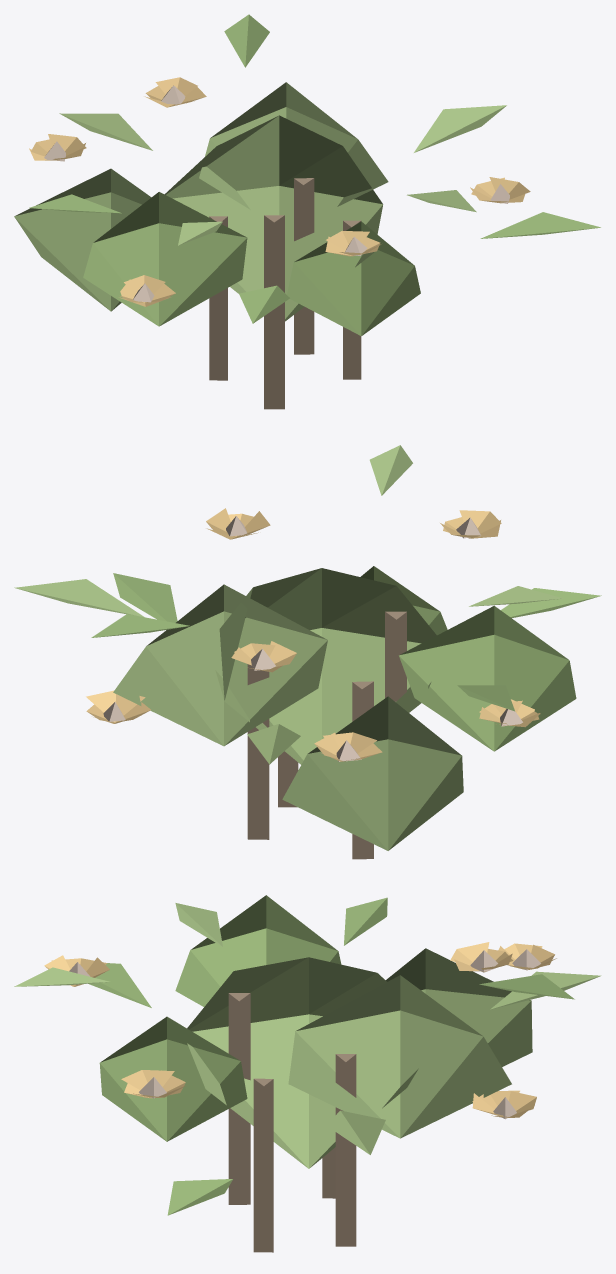
File: guan.lianqiao__spring.glb
The picture shows the model from 3 angles, top to bottom: view 1: azimuth 30°, elevation 25°; view 2: azimuth 150°, elevation 25°; view 3: azimuth 270°, elevation 25°; orthographic projection. The views are drawn at different scales.
Visible parts, largest first — view 1: guan.lianqiao__spring; view 2: guan.lianqiao__spring; view 3: guan.lianqiao__spring.
Part boxes in pixels (x1,y1,x2,y2): guan.lianqiao__spring: (14,14,600,409); guan.lianqiao__spring: (14,445,601,859); guan.lianqiao__spring: (14,895,601,1252).
Size of the model in its own units: 3.08 by 1.6 by 3.03.
